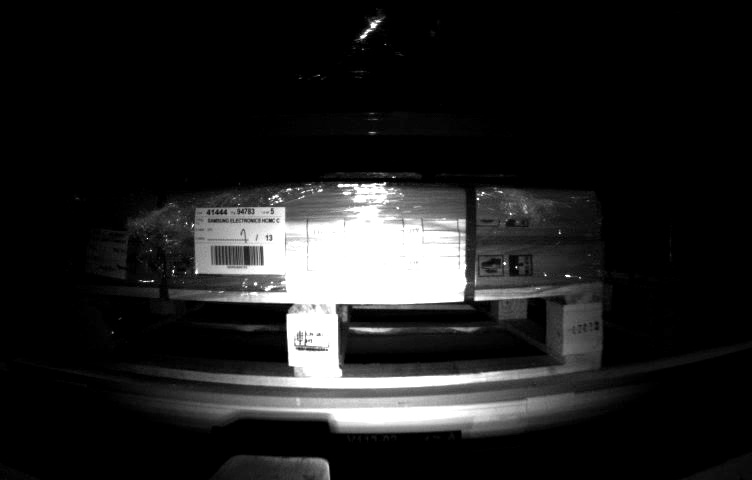True Barcode: (85, 225, 131, 284)
